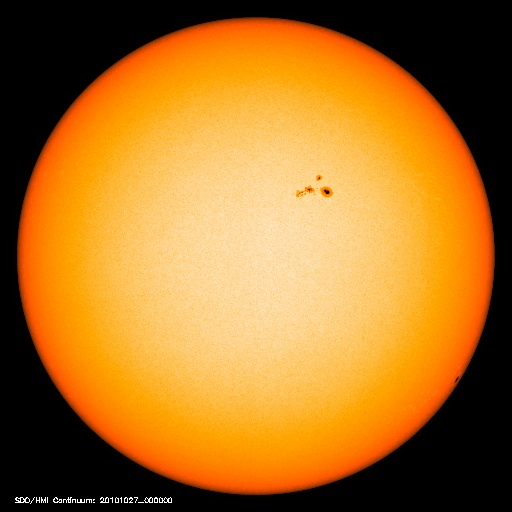sunspot: (289, 169, 338, 204), (442, 364, 471, 392)
